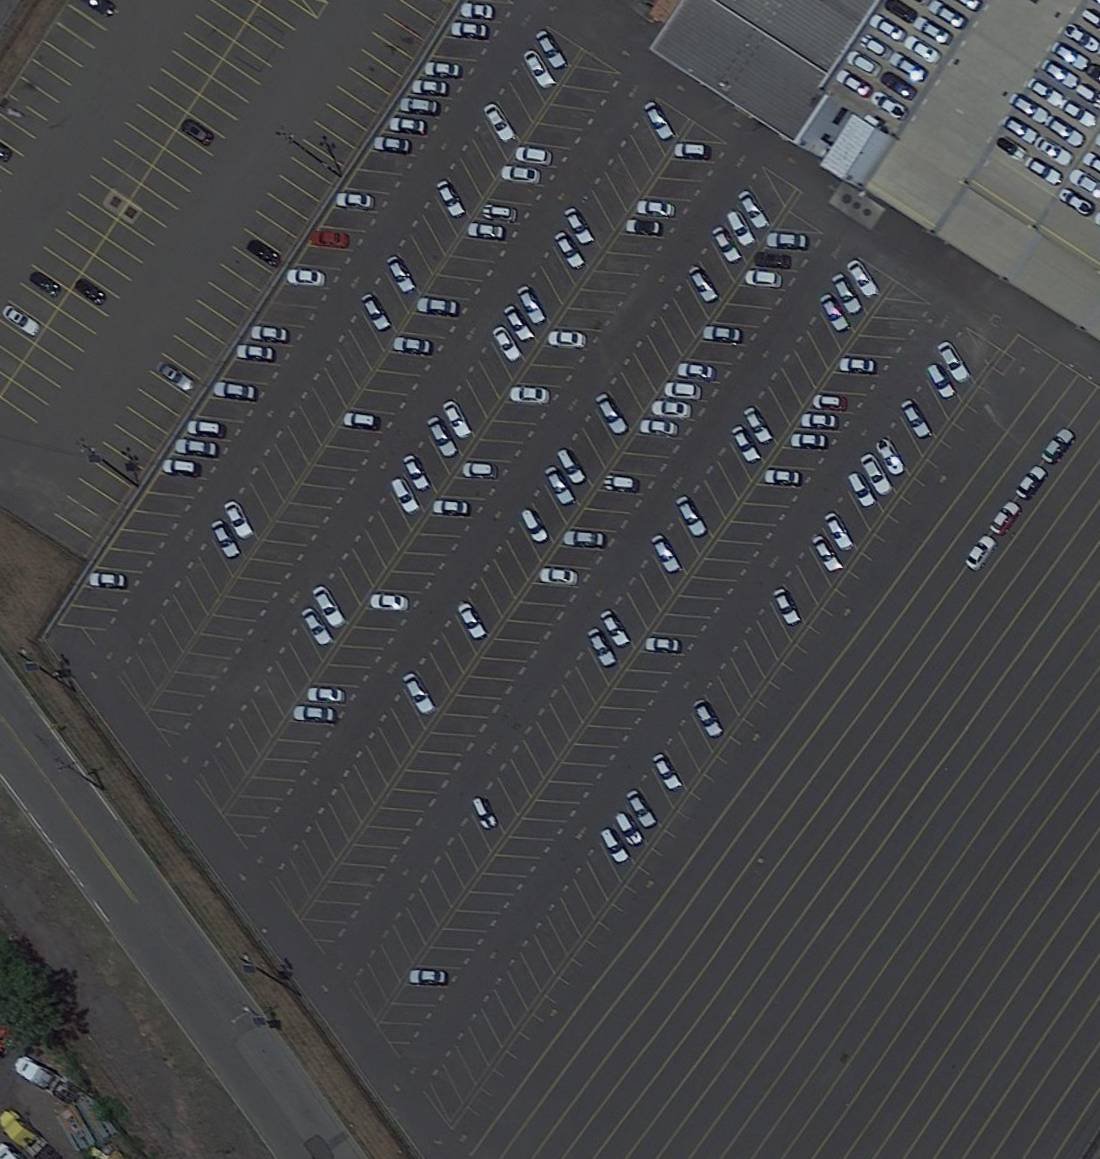small vehicle: (311, 584, 348, 629), (936, 340, 973, 385), (673, 494, 710, 538), (859, 453, 895, 498), (402, 671, 437, 717), (595, 392, 630, 438), (1045, 113, 1088, 150), (481, 101, 517, 144), (426, 415, 460, 460), (830, 271, 864, 316), (299, 606, 335, 648), (154, 360, 197, 395), (1039, 426, 1077, 465), (845, 258, 881, 299), (533, 29, 568, 71), (642, 100, 676, 143), (900, 398, 934, 441), (868, 89, 912, 122), (1007, 92, 1051, 125), (964, 532, 1000, 572), (522, 48, 556, 90), (542, 465, 576, 507), (692, 698, 726, 740), (738, 189, 771, 232), (730, 423, 763, 466), (710, 225, 744, 266), (741, 405, 775, 446), (598, 608, 632, 649), (562, 205, 595, 247), (210, 519, 243, 561), (625, 789, 658, 831), (516, 284, 548, 327), (902, 34, 945, 66), (1033, 135, 1076, 167), (1013, 463, 1050, 500), (912, 15, 956, 46), (554, 231, 588, 271), (874, 437, 908, 477), (651, 752, 685, 792), (1, 304, 42, 337), (223, 500, 256, 541), (819, 292, 852, 333), (650, 533, 683, 574), (456, 600, 489, 641), (889, 50, 931, 82), (1023, 155, 1065, 187), (1040, 58, 1082, 90), (988, 498, 1023, 536), (1001, 114, 1041, 147), (1026, 75, 1066, 108), (725, 209, 757, 250), (879, 70, 920, 102), (868, 12, 909, 44), (436, 178, 467, 220), (587, 627, 618, 669), (687, 265, 720, 304), (846, 471, 879, 510), (502, 303, 534, 343), (491, 324, 523, 364), (1050, 40, 1090, 72), (361, 292, 393, 332), (845, 49, 885, 81), (386, 254, 417, 295), (612, 810, 645, 848), (926, 363, 958, 402), (555, 448, 587, 487), (391, 476, 422, 516), (1059, 97, 1099, 128), (823, 511, 853, 552), (519, 507, 551, 545), (599, 827, 631, 865), (441, 400, 472, 439), (402, 454, 433, 493), (772, 587, 803, 626), (811, 534, 842, 573), (1062, 22, 1100, 53), (835, 69, 874, 99), (927, 1, 967, 30), (469, 796, 500, 833), (1058, 187, 1095, 217), (73, 278, 109, 308), (246, 238, 283, 267), (180, 117, 215, 147), (858, 34, 895, 62), (212, 381, 258, 403), (29, 271, 63, 299), (417, 296, 460, 317), (292, 706, 338, 725), (174, 439, 220, 458), (513, 145, 554, 166), (884, 1, 919, 25), (236, 343, 277, 363), (677, 362, 718, 382), (540, 566, 580, 586), (500, 165, 542, 184), (186, 420, 228, 439), (395, 335, 434, 355), (466, 222, 507, 241), (162, 458, 203, 477), (651, 400, 694, 418), (344, 412, 382, 432), (286, 269, 328, 287), (547, 330, 588, 348), (250, 325, 291, 343), (702, 325, 743, 343), (665, 382, 703, 401), (370, 593, 410, 611), (449, 22, 491, 39), (509, 386, 551, 403), (562, 531, 606, 547), (481, 204, 520, 222), (400, 98, 439, 116), (640, 419, 679, 437), (766, 233, 807, 250), (310, 231, 351, 248), (336, 192, 377, 209), (675, 142, 713, 160), (755, 252, 793, 270), (388, 117, 426, 135), (840, 357, 878, 375), (765, 469, 803, 487), (745, 270, 784, 287), (373, 137, 412, 154), (306, 687, 347, 703), (636, 200, 677, 216), (424, 61, 461, 78), (462, 463, 499, 480), (801, 413, 838, 430), (88, 573, 127, 589), (626, 220, 663, 236), (604, 476, 641, 492), (412, 79, 448, 95), (410, 970, 448, 985), (434, 500, 469, 516), (645, 638, 682, 653), (460, 3, 496, 18), (813, 395, 849, 410), (792, 434, 828, 449)
